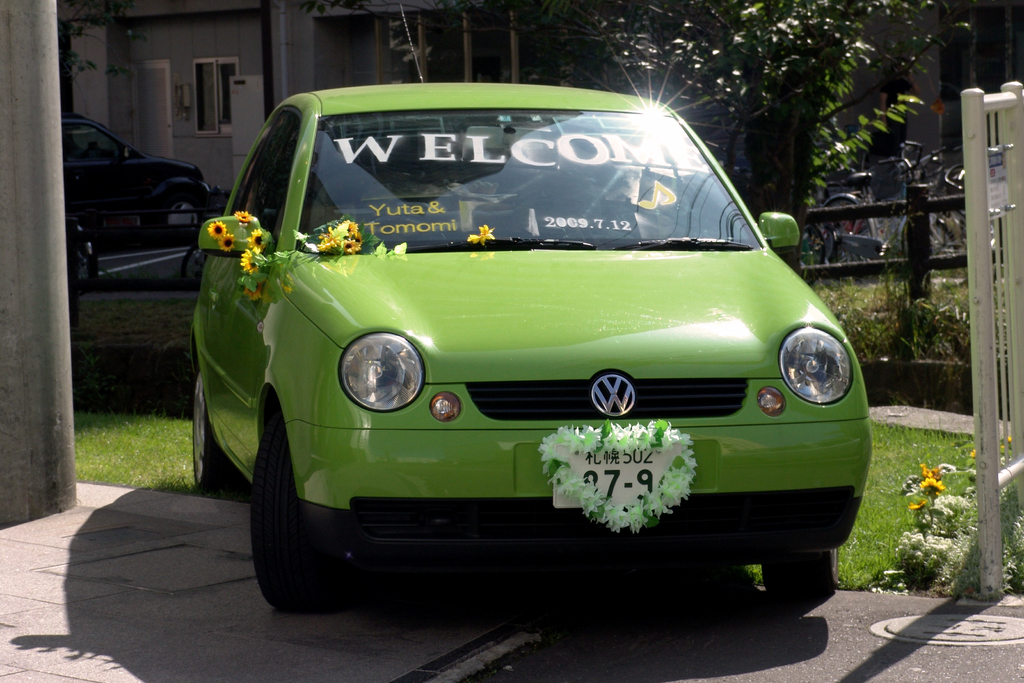Car: (190, 71, 862, 635), (60, 114, 199, 228)
